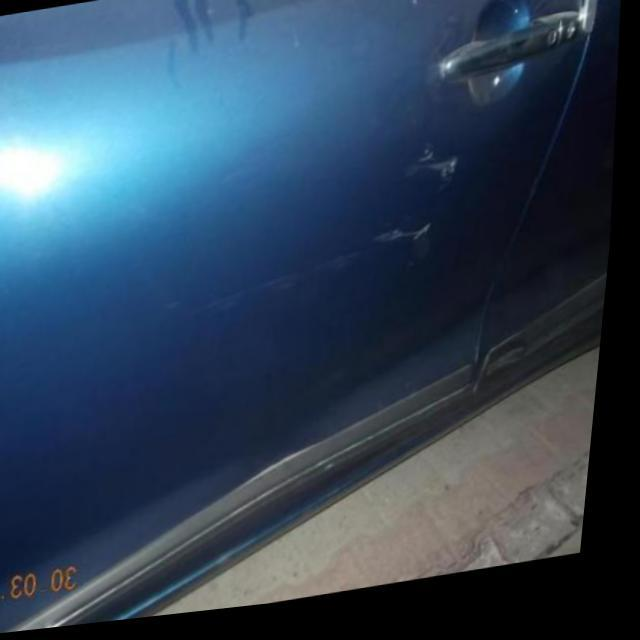scratch: (379, 212, 439, 266), (417, 157, 462, 196)
